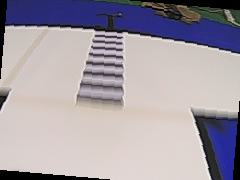CrossWalk: (72, 27, 129, 111)
